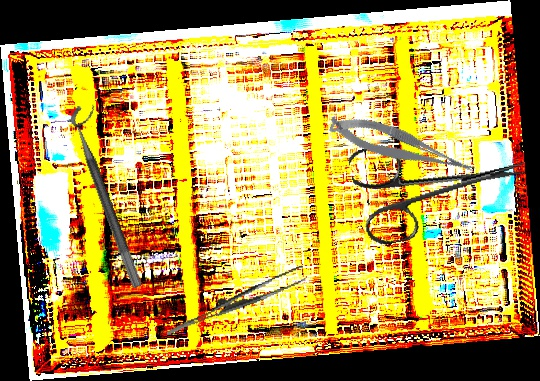Fixation Ring: (66, 100, 158, 290)
Iris Scissors: (346, 117, 535, 249)
Micro Scissor: (324, 101, 479, 194)
Tissue Forceps: (159, 265, 311, 336)
